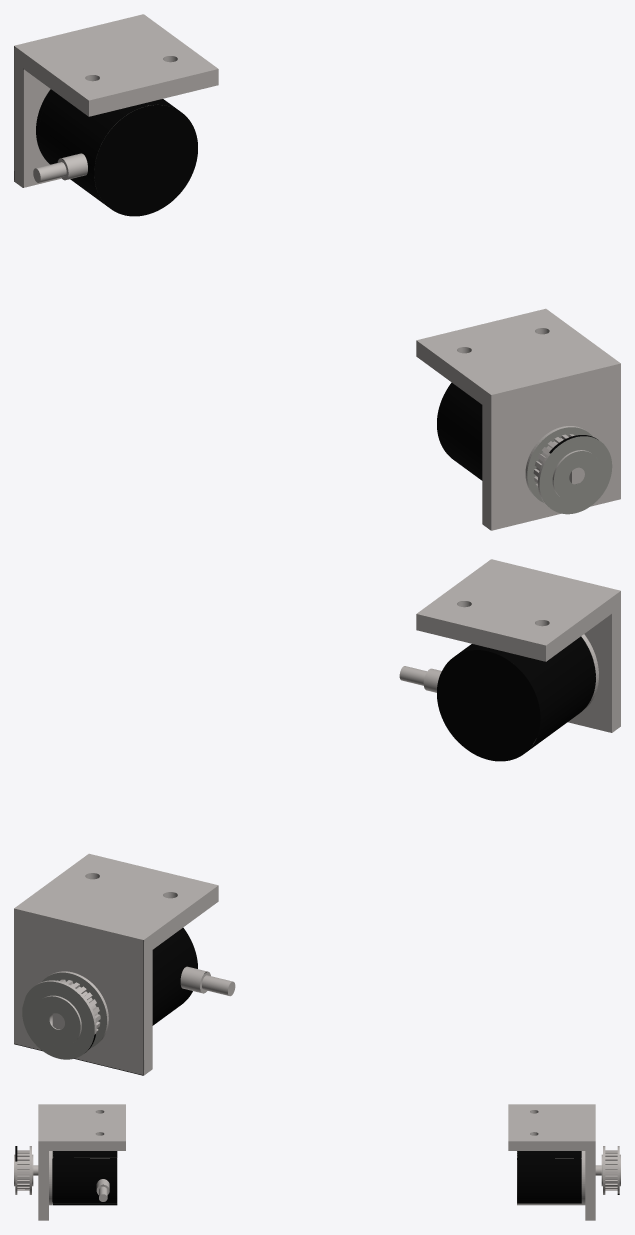
The model's file is encoder.dae.
3 views of the same model, one above another, from view 1: azimuth 30°, elevation 25°; view 2: azimuth 150°, elevation 25°; view 3: azimuth 270°, elevation 25° (orthographic). The views are drawn at different scales.
Parts seen in each view (by area): view 1: Encoder; view 2: Encoder; view 3: Encoder.
Part boxes in pixels (x1,y1,x2,y2): Encoder: (14,14,620,530); Encoder: (14,559,620,1075); Encoder: (14,1104,620,1220).
Bounding box in the file's own units: 0.075 × 0.347 × 0.05.
1 material, 1 textured.
